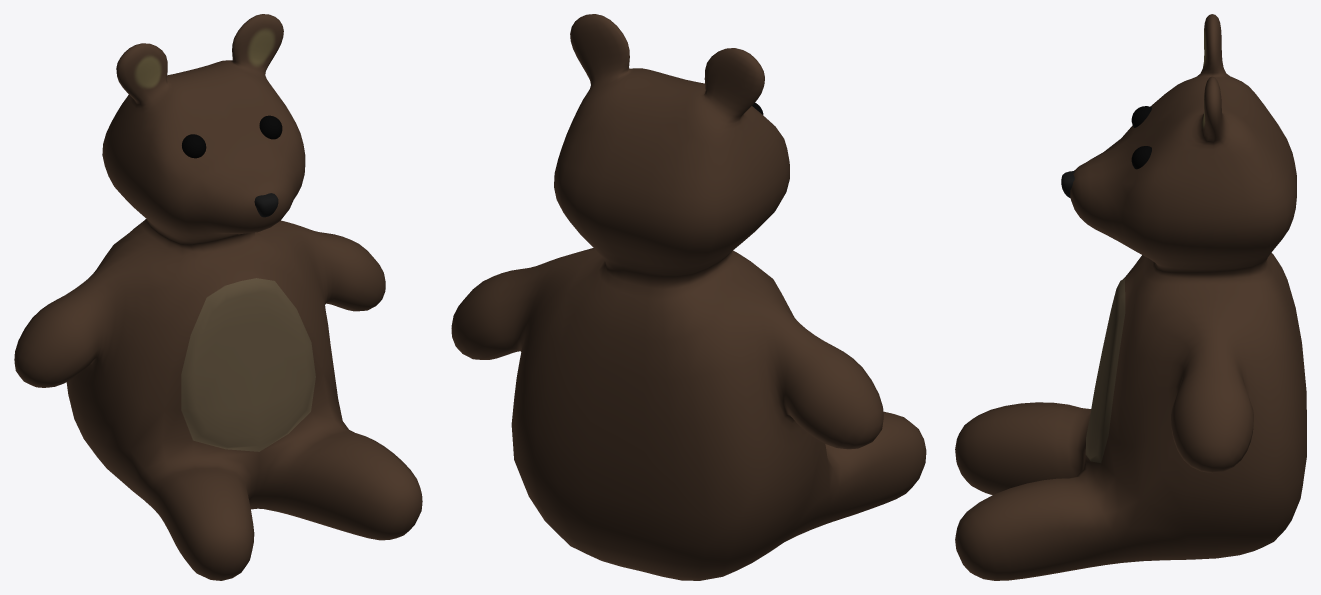
File: teddy_bear_c752c932.glb
3 views of the same model, side by side, from view 1: azimuth 30°, elevation 25°; view 2: azimuth 150°, elevation 25°; view 3: azimuth 270°, elevation 25° (orthographic). The views are drawn at different scales.
Parts seen in each view (by area): view 1: TeddyBear; view 2: TeddyBear; view 3: TeddyBear.
Boxes of the visible parts, x1,y1,x2,y2 form: TeddyBear: (14,14,422,580); TeddyBear: (451,14,926,580); TeddyBear: (955,14,1306,580).
Size of the model in its own units: 80.4 by 96.4 by 62.68.
1 material, 1 textured.
